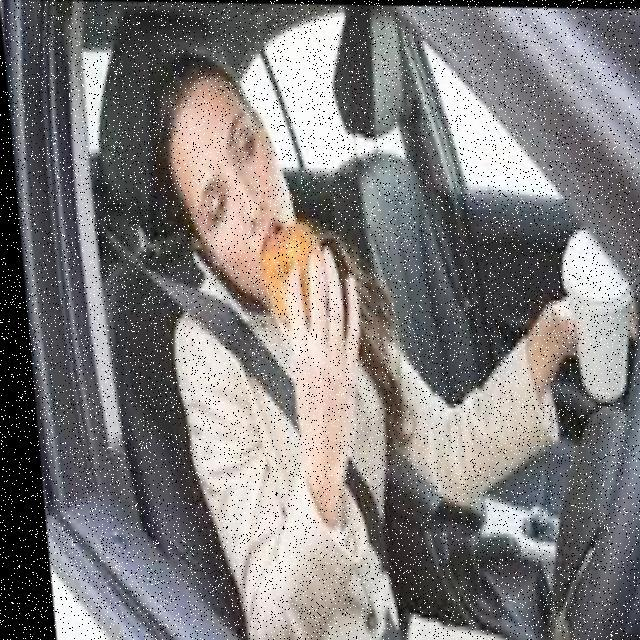seatbelt: (166, 251, 386, 637)
